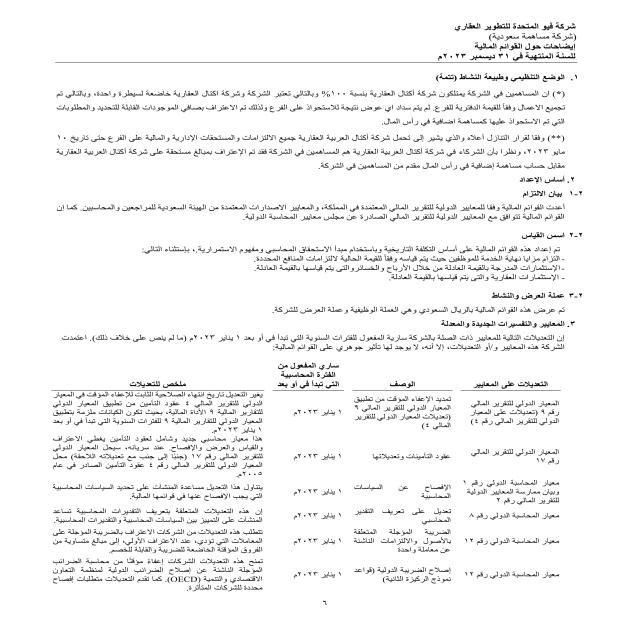notes: (469, 41, 582, 53)
table: (5, 364, 578, 601)
